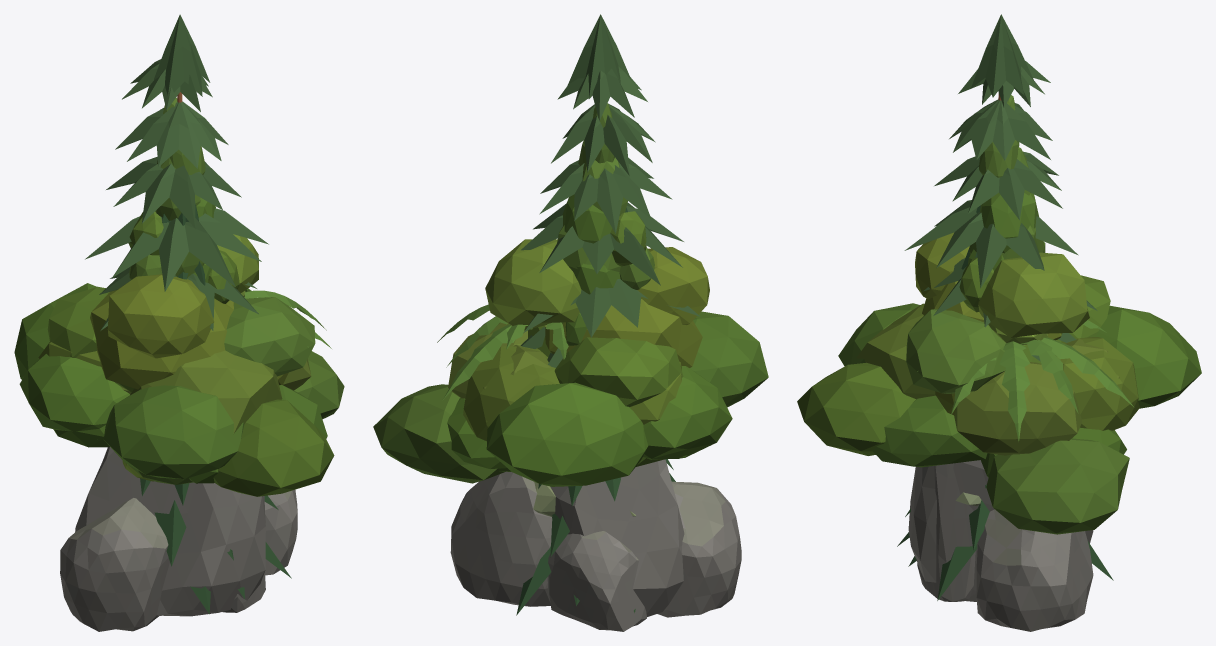
Rendered from nature_kit.glb.
3 renders of one model, left to right at view 1: azimuth 30°, elevation 25°; view 2: azimuth 150°, elevation 25°; view 3: azimuth 270°, elevation 25°, orthographic. The views are drawn at different scales.
Parts seen in each view (by area): view 1: Tree_Oak_A, Rock_Large, Tree_Pine_B, Tree_Oak_B, Tree_Poplar, Tree_Pine_A, Tree_Palm; view 2: Tree_Oak_A, Rock_Large, Tree_Oak_B, Tree_Pine_B, Tree_Poplar, Tree_Palm, Tree_Pine_A, Tree_Olive; view 3: Tree_Oak_A, Tree_Oak_B, Rock_Large, Tree_Pine_B, Tree_Palm, Tree_Poplar, Tree_Pine_A.
Boxes of the visible parts, x1,y1,x2,y2 form: Tree_Oak_A: (14, 283, 344, 496); Rock_Large: (60, 447, 297, 631); Tree_Pine_B: (85, 14, 268, 330); Tree_Oak_B: (38, 234, 311, 433); Tree_Poplar: (128, 97, 239, 303); Tree_Pine_A: (140, 204, 291, 614); Tree_Palm: (244, 288, 331, 348); Tree_Oak_A: (373, 311, 768, 486); Rock_Large: (450, 459, 741, 631); Tree_Oak_B: (448, 239, 709, 441); Tree_Pine_B: (520, 14, 700, 367); Tree_Poplar: (557, 103, 654, 345); Tree_Palm: (437, 304, 568, 400); Tree_Pine_A: (516, 207, 675, 615); Tree_Olive: (533, 482, 635, 516); Tree_Oak_A: (797, 275, 1201, 534); Tree_Oak_B: (856, 232, 1139, 455); Rock_Large: (908, 460, 1093, 631); Tree_Pine_B: (904, 14, 1097, 361); Tree_Palm: (917, 320, 1134, 441); Tree_Poplar: (959, 95, 1045, 312); Tree_Pine_A: (897, 205, 1113, 600).
Bounding box in the file's own units: 10.98 × 19.01 × 12.37.
